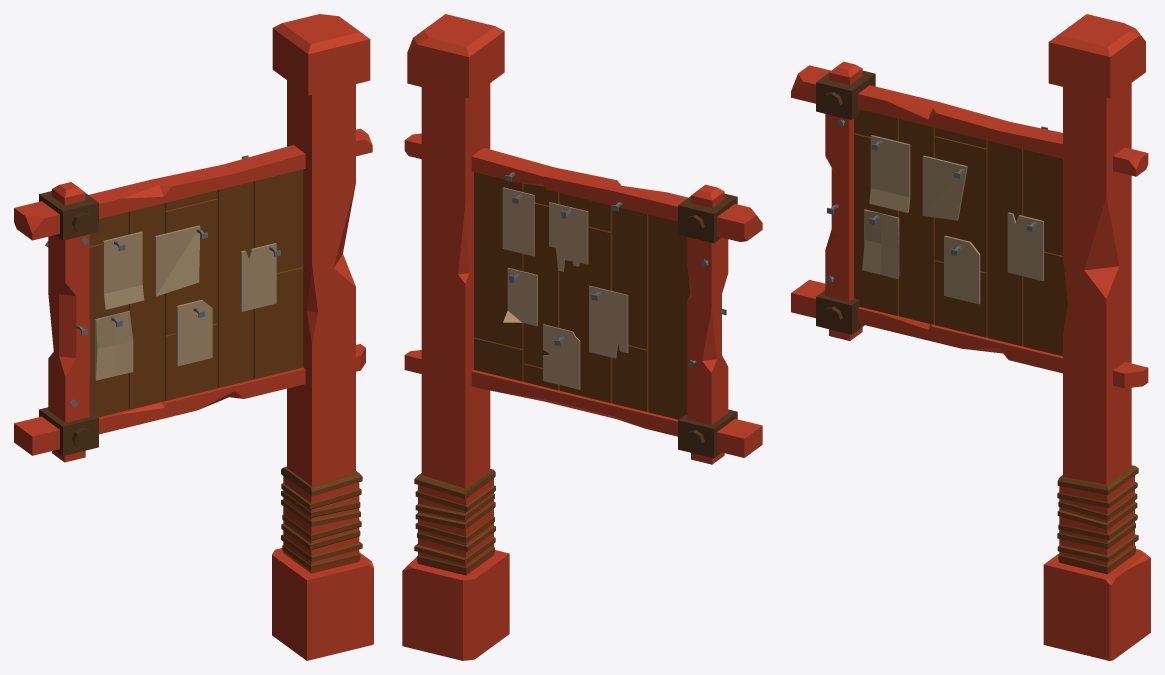
The model's file is SM_Announcement_01.gltf.
3 renders of one model, left to right at view 1: azimuth 30°, elevation 25°; view 2: azimuth 150°, elevation 25°; view 3: azimuth 330°, elevation 25°, orthographic.
Parts seen in each view (by area): view 1: SM_Announcement_01; view 2: SM_Announcement_01; view 3: SM_Announcement_01.
Part boxes in pixels (<box>): SM_Announcement_01: <box>14,14,373,660</box>; SM_Announcement_01: <box>402,14,762,660</box>; SM_Announcement_01: <box>791,14,1150,660</box>.
Size of the model in its own units: 1.17 by 1.98 by 0.2318.
1 material, 1 textured.
